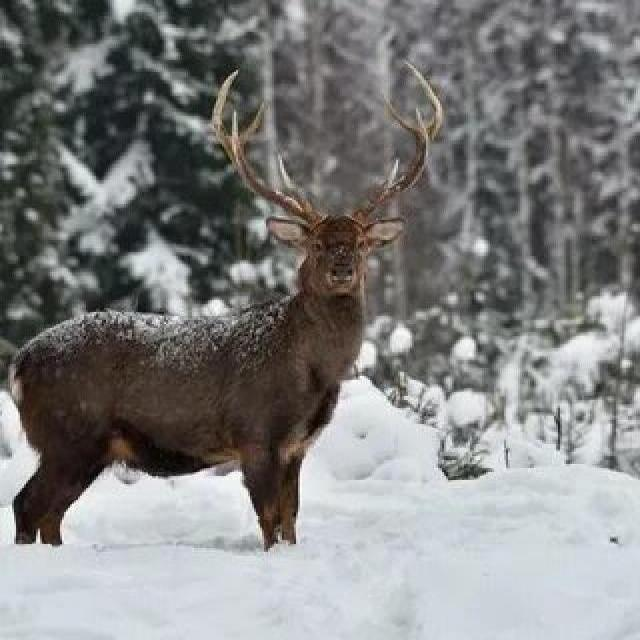deer: (78, 144, 586, 584)
